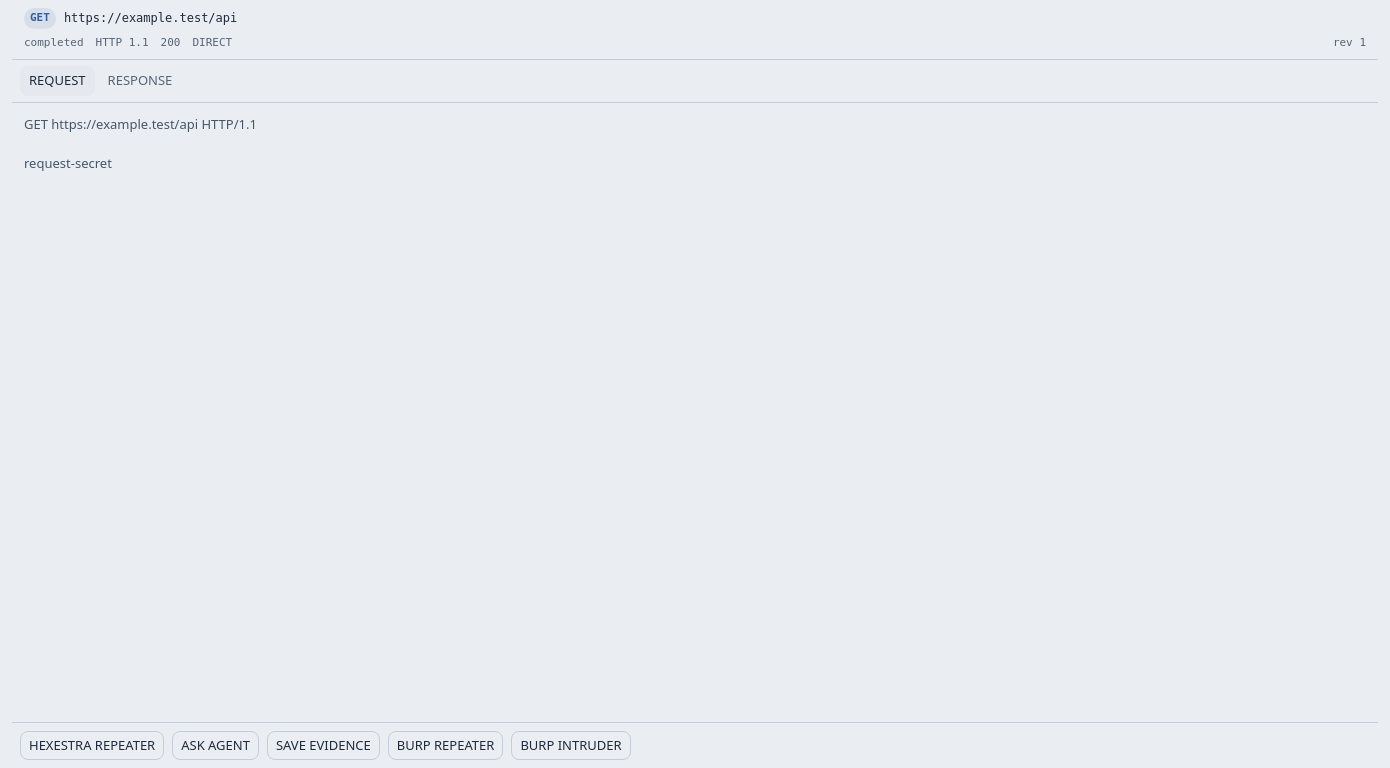
Test case: TrafficDetailTab › loads the selected flow body only inside its detail tab
Click the button "RESPONSE" at coordinates (140, 81), box [99,66,181,96]
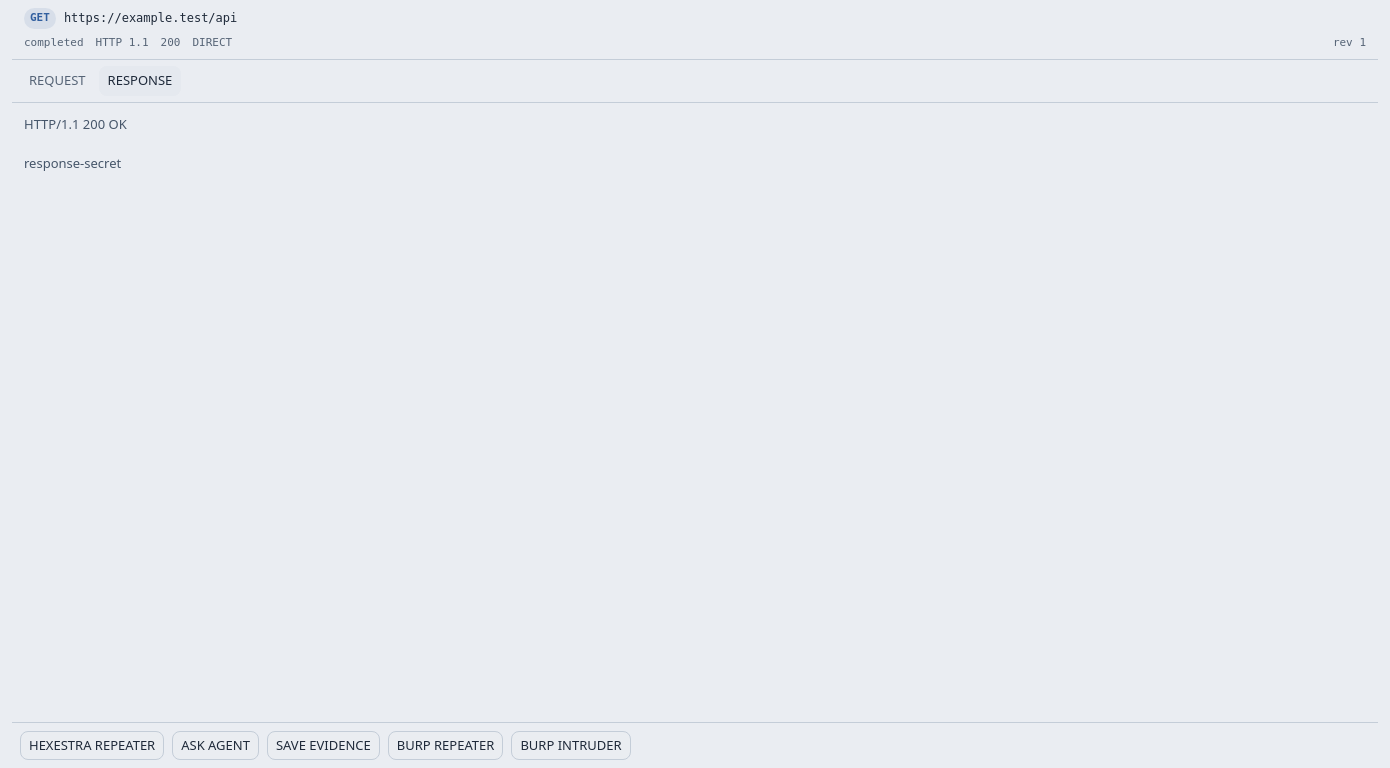
Expected: the text box showing "response-secret" is shown
